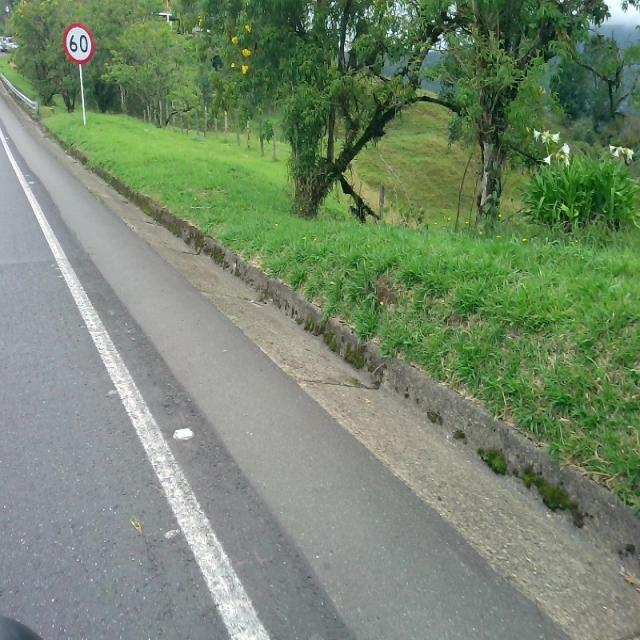DITCH: (1, 72, 638, 638), (1, 77, 638, 638)
